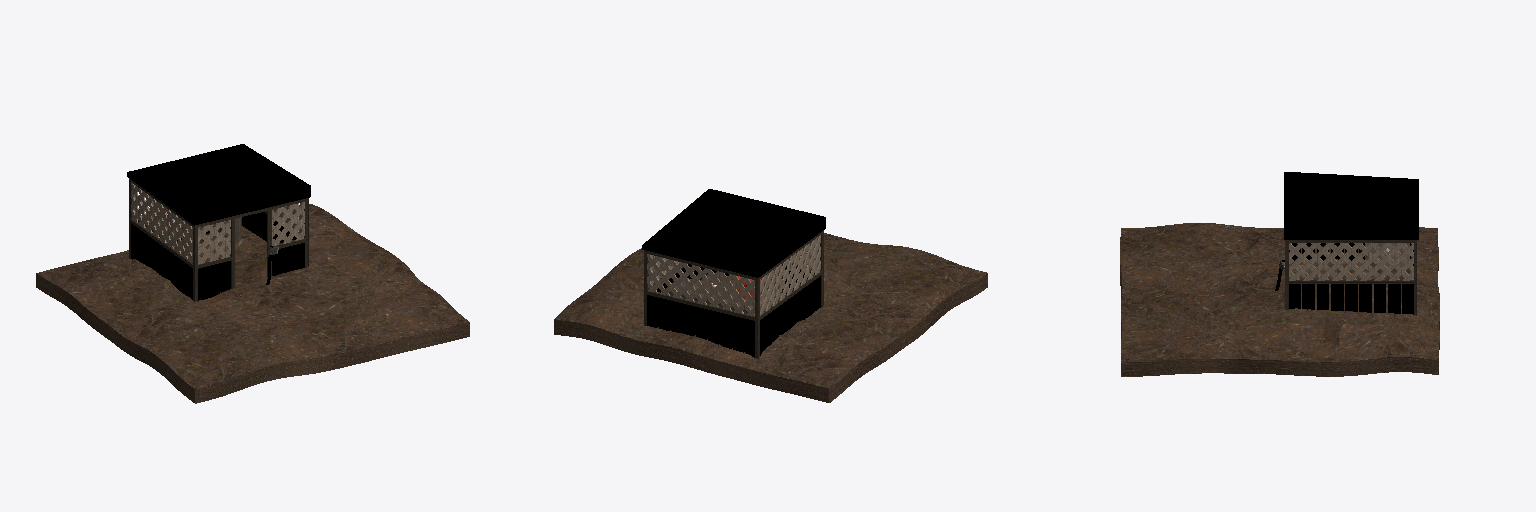
3 renders of one model, left to right at view 1: azimuth 30°, elevation 25°; view 2: azimuth 150°, elevation 25°; view 3: azimuth 270°, elevation 25°, orthographic.
Parts seen in each view (by area): view 1: Ground:pCube1, Shed3:FrontWall1; view 2: Ground:pCube1, Shed3:FrontWall1; view 3: Ground:pCube1, Shed3:FrontWall1.
Part boxes in pixels (bbox=[...]): Ground:pCube1: bbox=[36, 204, 469, 403]; Shed3:FrontWall1: bbox=[127, 144, 310, 301]; Ground:pCube1: bbox=[554, 233, 987, 402]; Shed3:FrontWall1: bbox=[642, 189, 825, 358]; Ground:pCube1: bbox=[1120, 223, 1439, 376]; Shed3:FrontWall1: bbox=[1284, 172, 1418, 315].
Size of the model in its own units: 20.54 by 7.67 by 20.19.
18 materials, 9 textured.